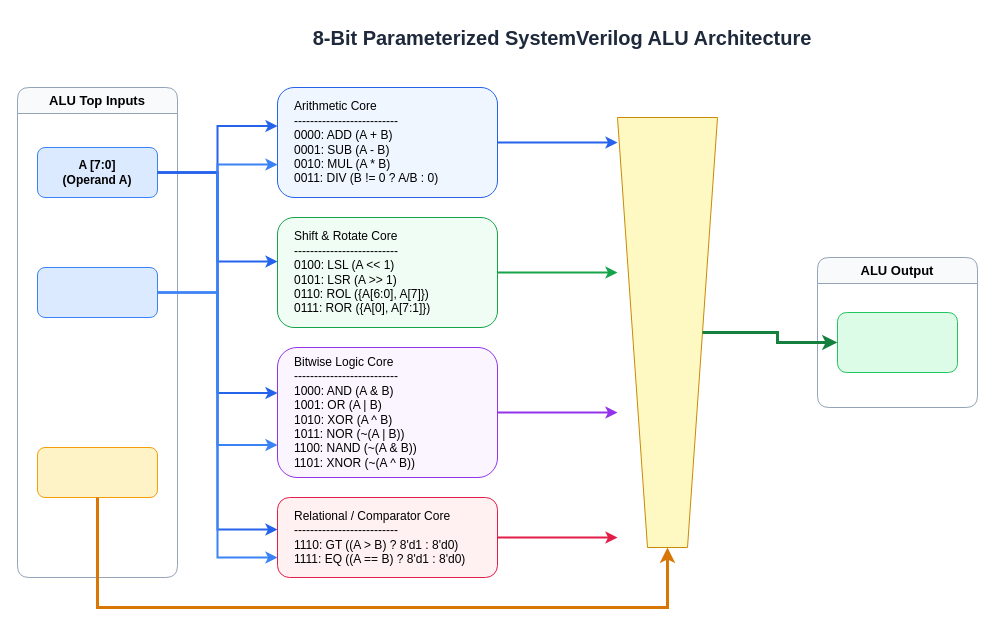
Image size: 995x634. Some labels were removed from this diagram. Here are the shapes that lost their labels. From the top down, the centre of each, then its label:
(97,292): B [7:0] (Operand B)
(667,332): 16:1 Output MUX (unique case (sel))
(897,342): out [7:0] (ALU Result)
(97,472): sel [3:0] (Opcode Select)
